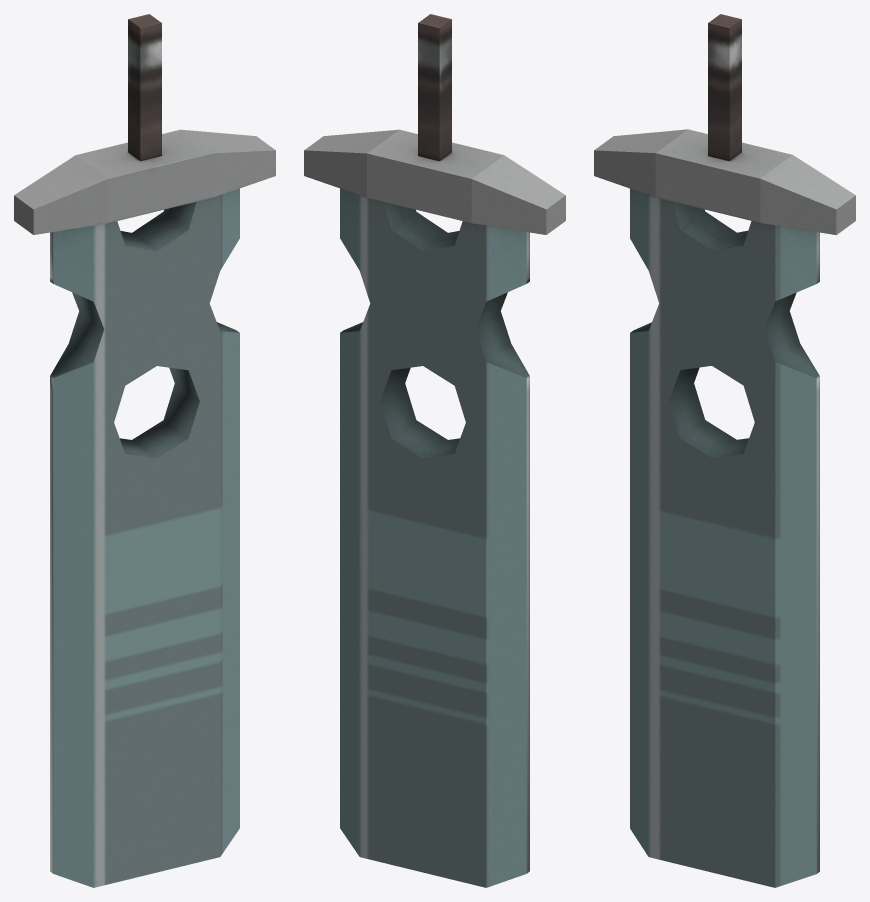
File: 017_sword_006_sword.fbx
3 renders of one model, left to right at view 1: azimuth 30°, elevation 25°; view 2: azimuth 150°, elevation 25°; view 3: azimuth 330°, elevation 25°, orthographic.
Visible parts, largest first — view 1: Mesh_BigSword; view 2: Mesh_BigSword; view 3: Mesh_BigSword.
Part boxes in pixels (left/top/right/bottom): Mesh_BigSword: left=14, top=14, right=275, bottom=887; Mesh_BigSword: left=304, top=14, right=565, bottom=887; Mesh_BigSword: left=594, top=14, right=855, bottom=887.
Size of the model in its own units: 50.36 by 167 by 11.72.
